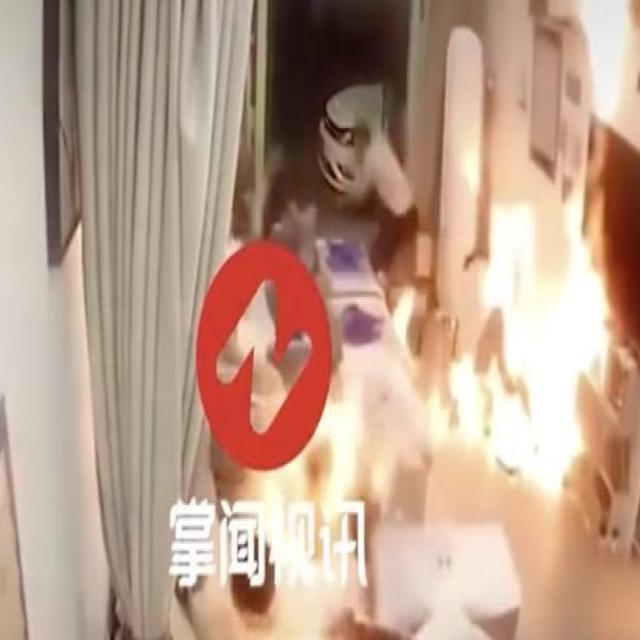smoke: (438, 201, 630, 482), (228, 384, 376, 606), (548, 4, 634, 146)
